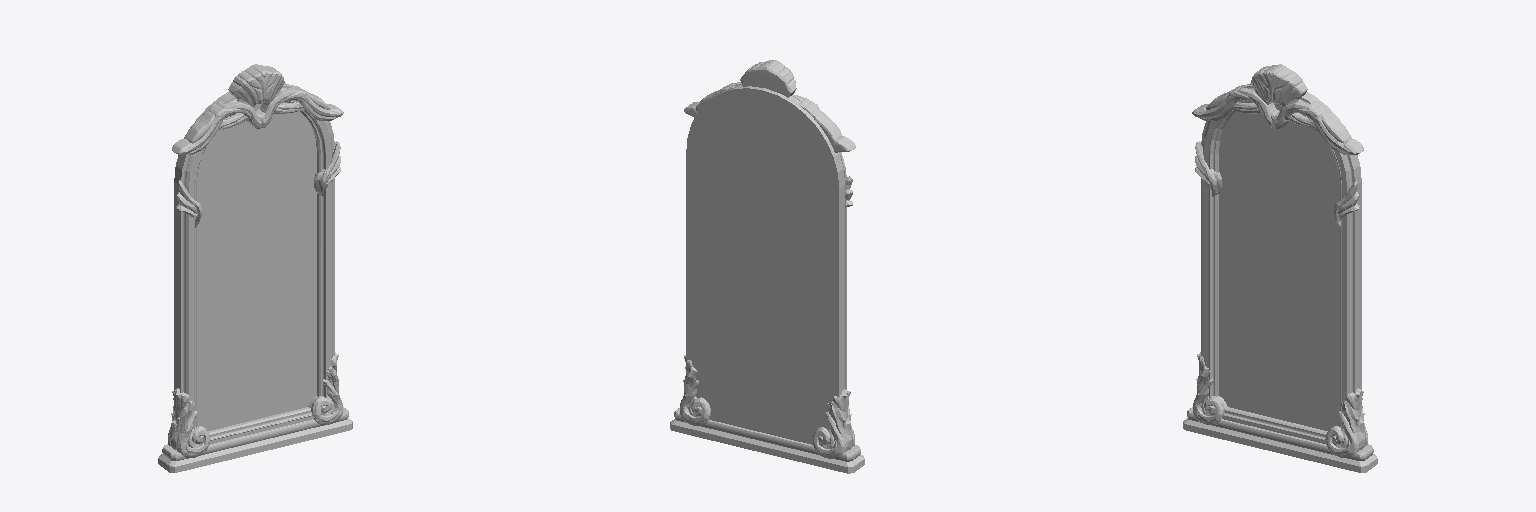
File: mirror.obj
3 views of the same model, side by side, from view 1: azimuth 30°, elevation 25°; view 2: azimuth 150°, elevation 25°; view 3: azimuth 330°, elevation 25° (orthographic).
Visible parts, largest first — view 1: Portal_frame_low, Portal_top_low, Portal_base_low, Portal_swhirl_low, Portal_wings_low; view 2: Portal_frame_low, Portal_base_low, Portal_swhirl_low, Portal_top_low; view 3: Portal_frame_low, Portal_top_low, Portal_base_low, Portal_swhirl_low, Portal_wings_low.
Boxes of the visible parts, x1=… form: Portal_frame_low: x1=174, y1=83, x2=334, y2=443; Portal_top_low: x1=172, y1=64, x2=343, y2=154; Portal_base_low: x1=158, y1=407, x2=352, y2=472; Portal_swhirl_low: x1=168, y1=352, x2=342, y2=457; Portal_wings_low: x1=176, y1=141, x2=340, y2=227; Portal_frame_low: x1=686, y1=83, x2=846, y2=444; Portal_base_low: x1=670, y1=408, x2=864, y2=473; Portal_swhirl_low: x1=680, y1=355, x2=854, y2=458; Portal_top_low: x1=684, y1=60, x2=855, y2=152; Portal_frame_low: x1=1201, y1=83, x2=1361, y2=443; Portal_top_low: x1=1192, y1=64, x2=1363, y2=154; Portal_base_low: x1=1183, y1=407, x2=1377, y2=472; Portal_swhirl_low: x1=1193, y1=352, x2=1367, y2=457; Portal_wings_low: x1=1195, y1=141, x2=1359, y2=227.
Bounding box in the file's own units: 144 × 286 × 24.74.